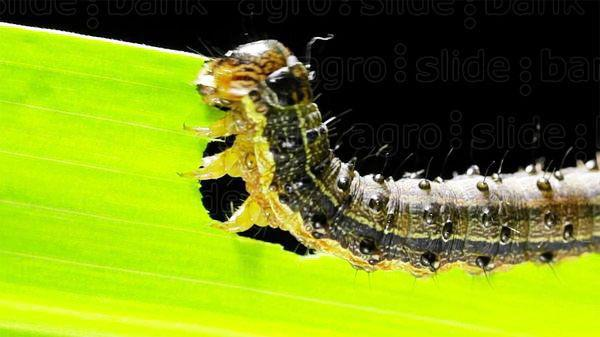Maize-fall-armyworm: (160, 38, 600, 326)
